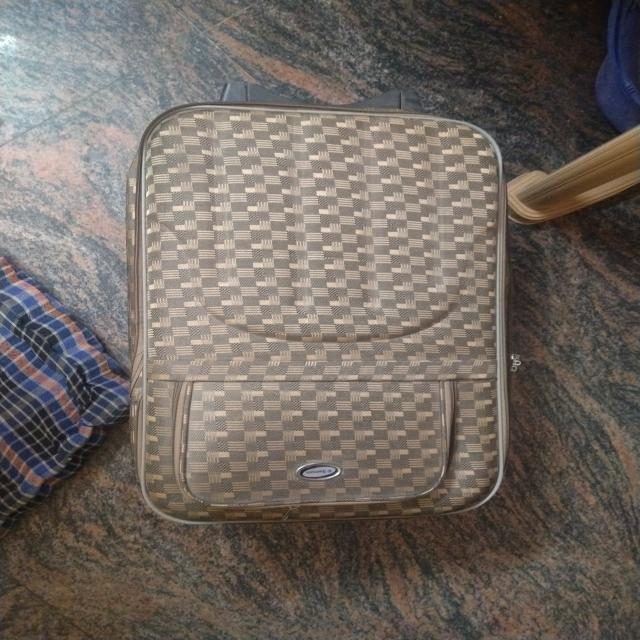suitcaserotation: (115, 74, 526, 531)
